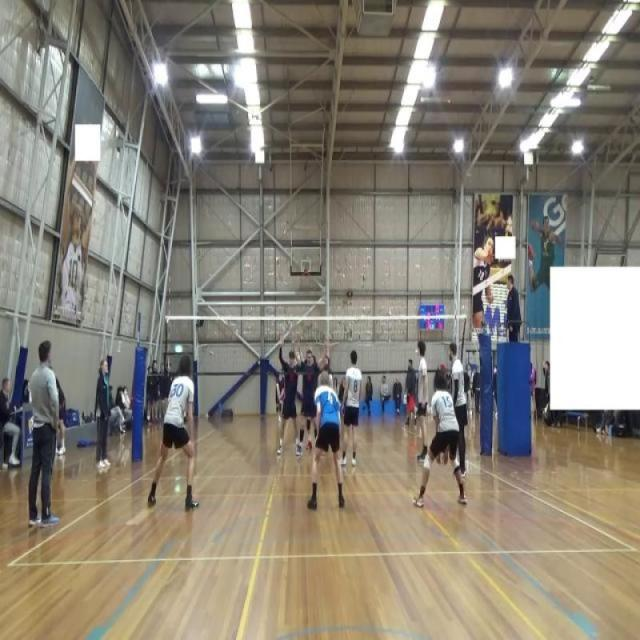volleyball: (275, 256, 280, 264)
